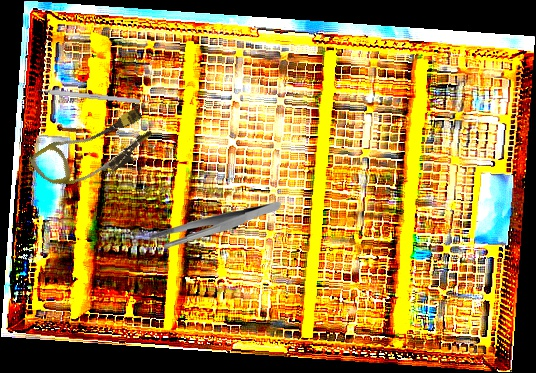Cannula: (27, 94, 160, 207)
Dressing Forceps: (150, 200, 282, 249)
Hook Surgical: (28, 87, 140, 104)
